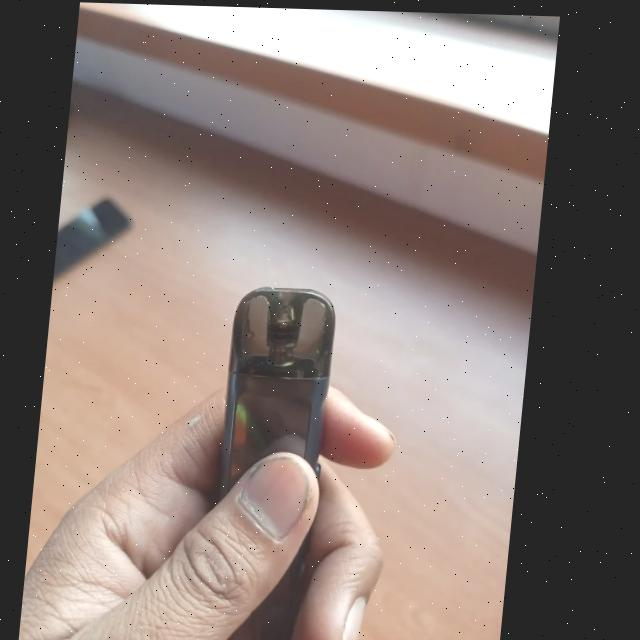vape: (211, 280, 346, 640)
